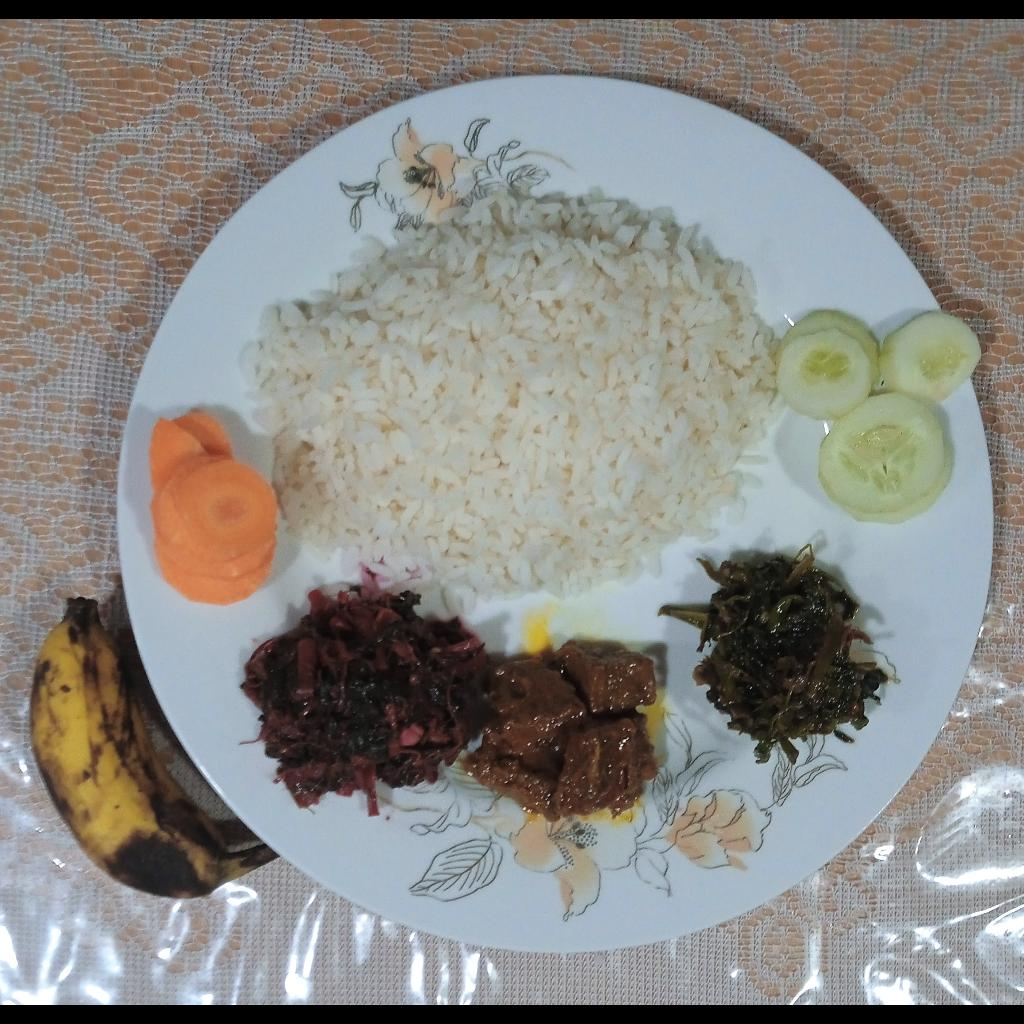banana: (28, 597, 285, 898)
beef: (459, 639, 662, 820)
carrot: (148, 408, 280, 607)
cucumber: (779, 311, 981, 521)
lal-shak: (244, 593, 484, 818)
rice: (241, 176, 780, 614)
shak: (657, 547, 891, 765)
